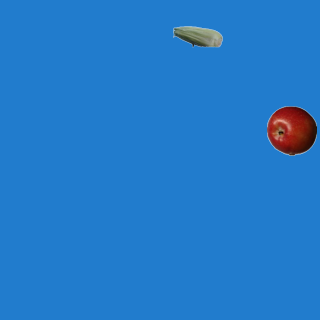Apple Braeburn: (266, 105, 316, 155)
Corn Husk: (172, 11, 222, 61)
